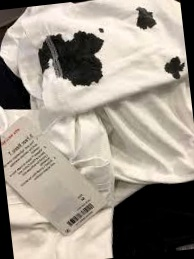ink: (42, 30, 107, 89), (161, 55, 187, 80), (135, 6, 157, 31)
